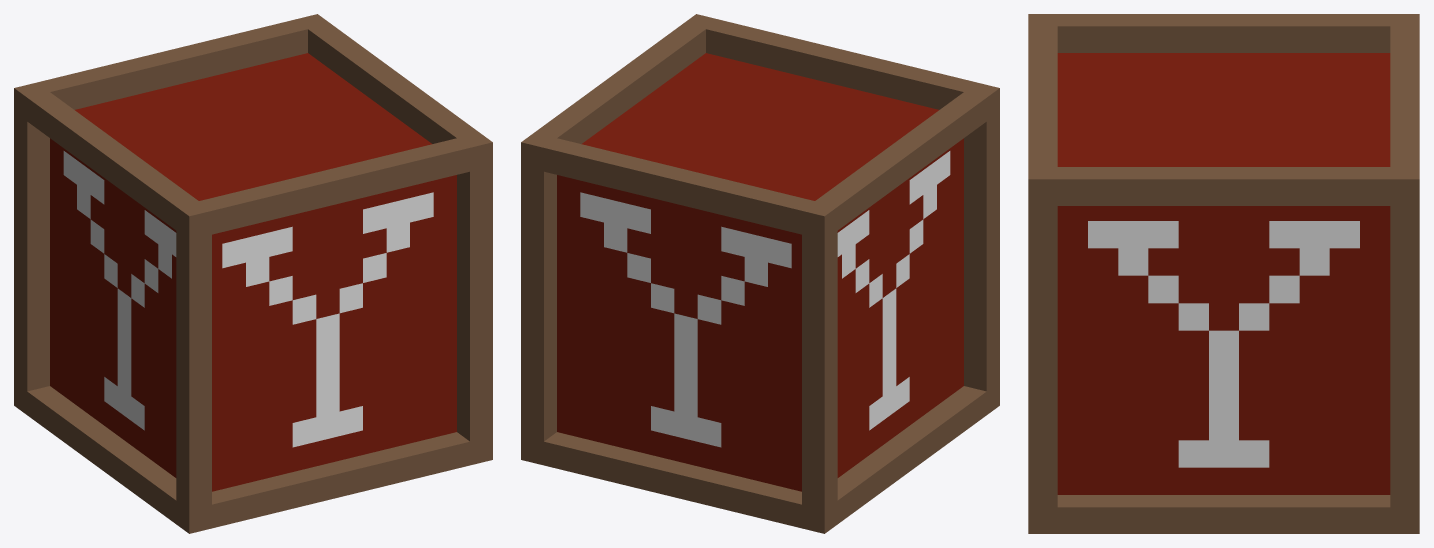
The model's file is Crate Y.fbx.
3 views of the same model, side by side, from view 1: azimuth 30°, elevation 25°; view 2: azimuth 150°, elevation 25°; view 3: azimuth 270°, elevation 25° (orthographic). The views are drawn at different scales.
Visible parts, largest first — view 1: Crate Y; view 2: Crate Y; view 3: Crate Y.
Part boxes in pixels (x1,y1,x2,y2): Crate Y: [14, 14, 492, 533]; Crate Y: [521, 14, 999, 533]; Crate Y: [1028, 14, 1419, 533].
Bounding box in the file's own units: 2 × 2 × 2.
